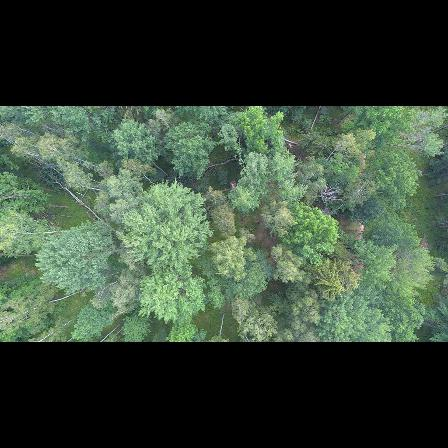Dead: (309, 185, 346, 206)
